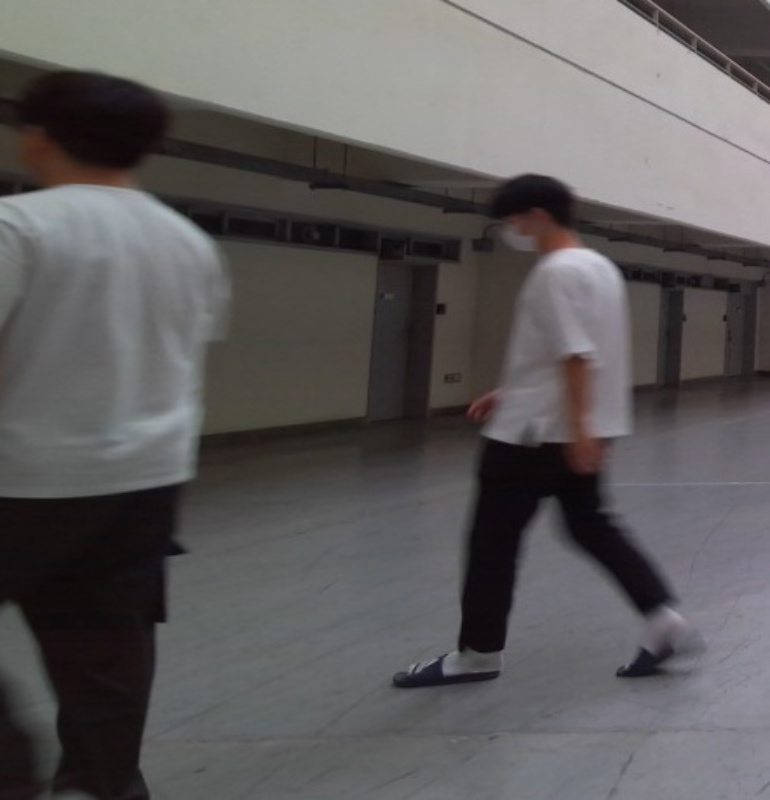person: (390, 171, 706, 685)
